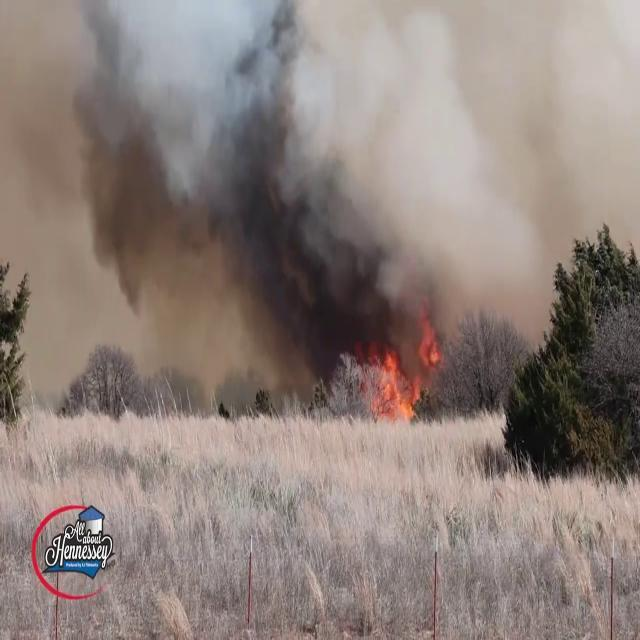Fire: (362, 312, 444, 421)
Smoke: (0, 2, 602, 393)
